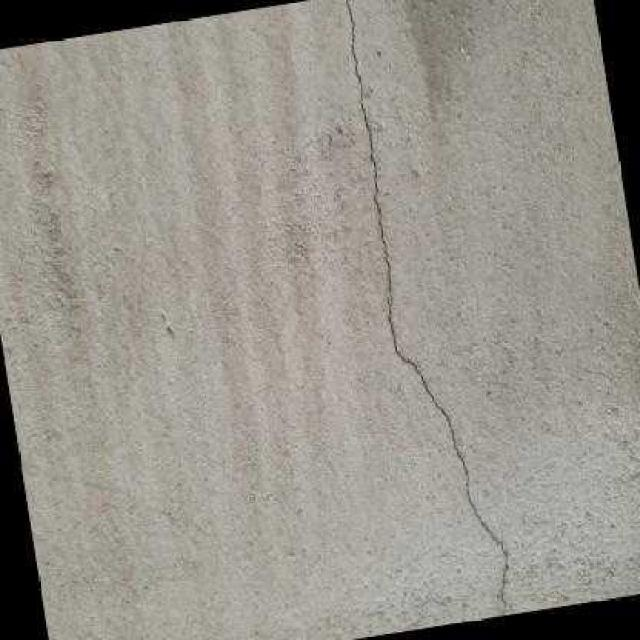D00: (345, 0, 505, 603)
